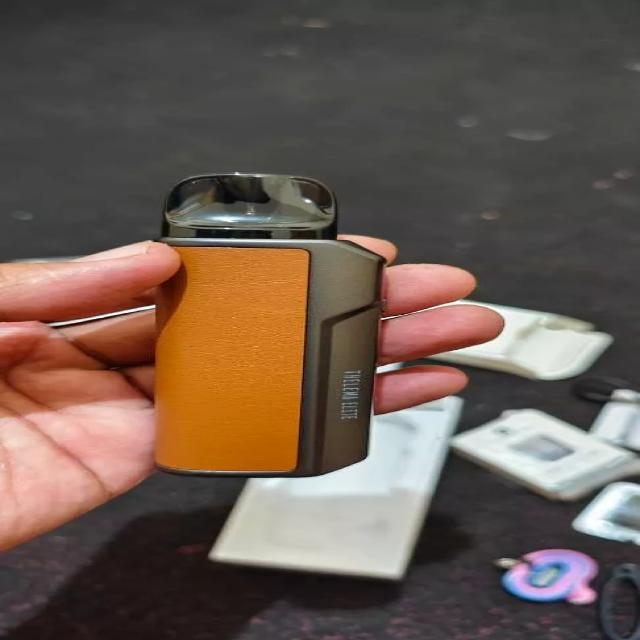Hazard: (158, 170, 385, 477)
